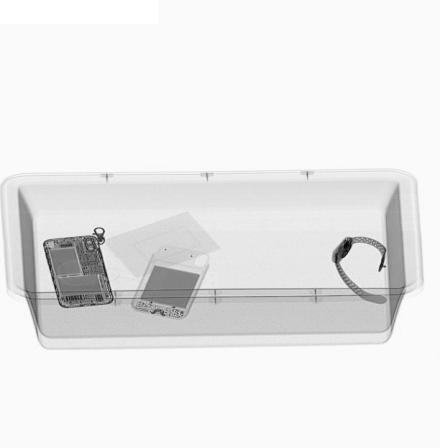Powerbank: (133, 255, 210, 319)
